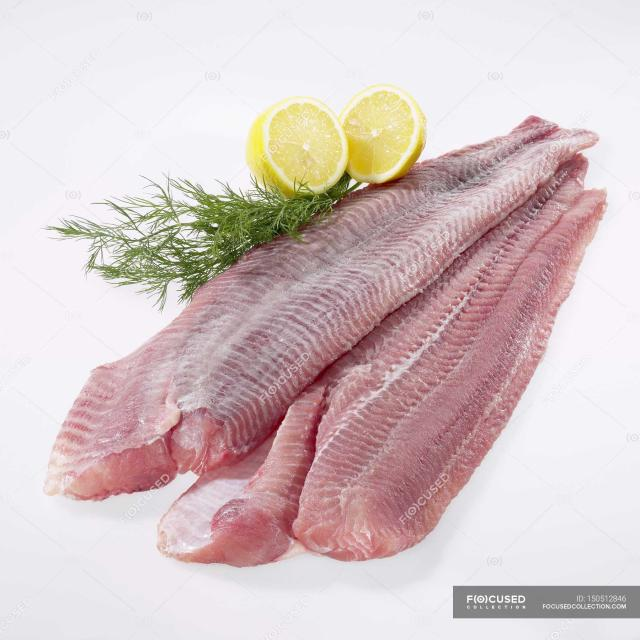Catfish: (34, 110, 613, 574), (201, 274, 471, 570)
Coriander: (34, 173, 351, 320)
lemon: (231, 96, 361, 195), (334, 74, 427, 184)
